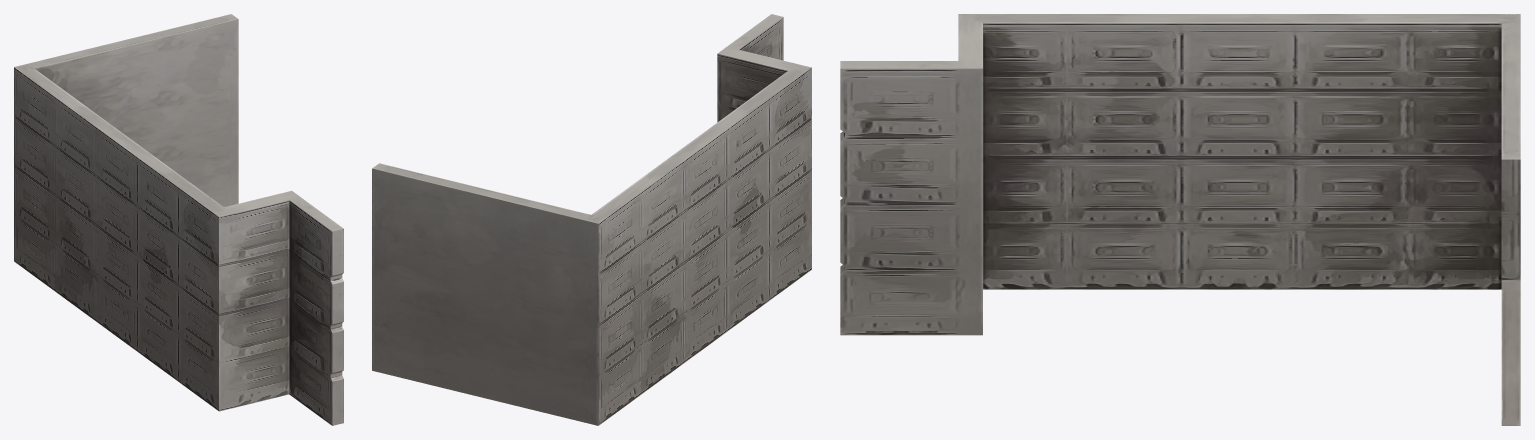
The model's file is cassetera_LP.fbx.
The picture shows the model from 3 angles, left to right: view 1: azimuth 30°, elevation 25°; view 2: azimuth 150°, elevation 25°; view 3: azimuth 270°, elevation 25°; orthographic projection. The views are drawn at different scales.
Parts seen in each view (by area): view 1: cassetera_recinto; view 2: cassetera_recinto; view 3: cassetera_recinto.
Boxes of the visible parts, x1,y1,x2,y2 form: cassetera_recinto: (14, 14, 343, 425); cassetera_recinto: (372, 14, 811, 425); cassetera_recinto: (840, 14, 1520, 425).
Size of what is drawn, in the model's own units: 455 by 388 by 899.
